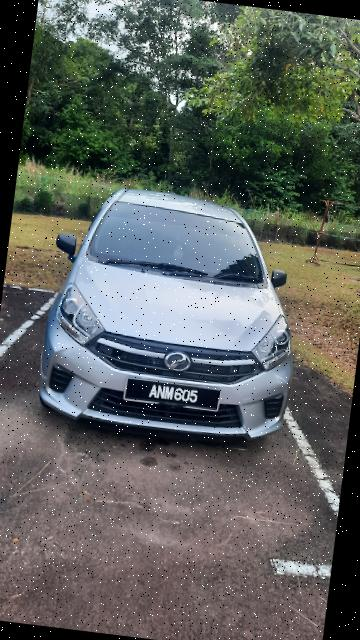License_Plate: (122, 372, 224, 415)
car: (24, 175, 313, 450)
